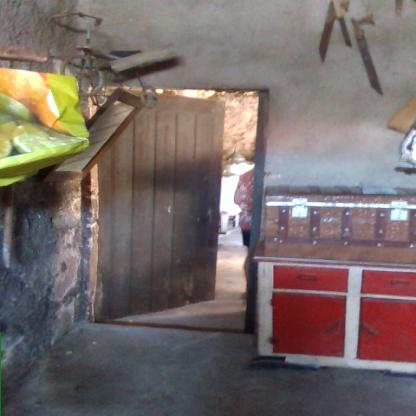semi: (101, 76, 283, 342)
